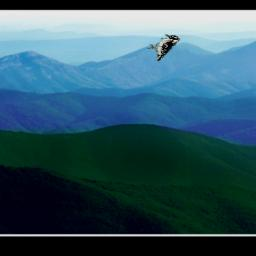Woodpecker: (146, 35, 179, 62)
